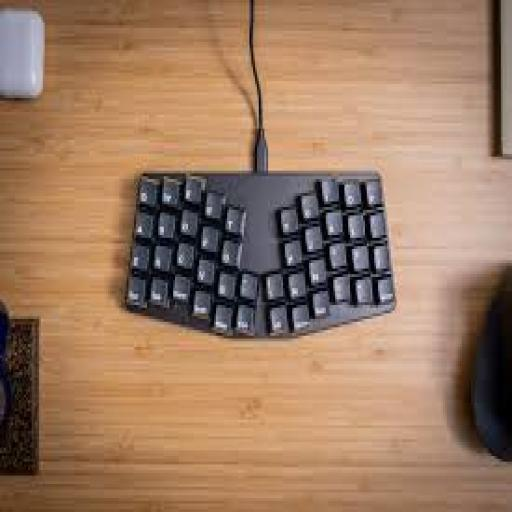keyboard: (125, 171, 395, 336)
